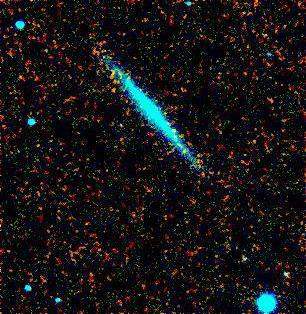star: (100, 73, 130, 103)
